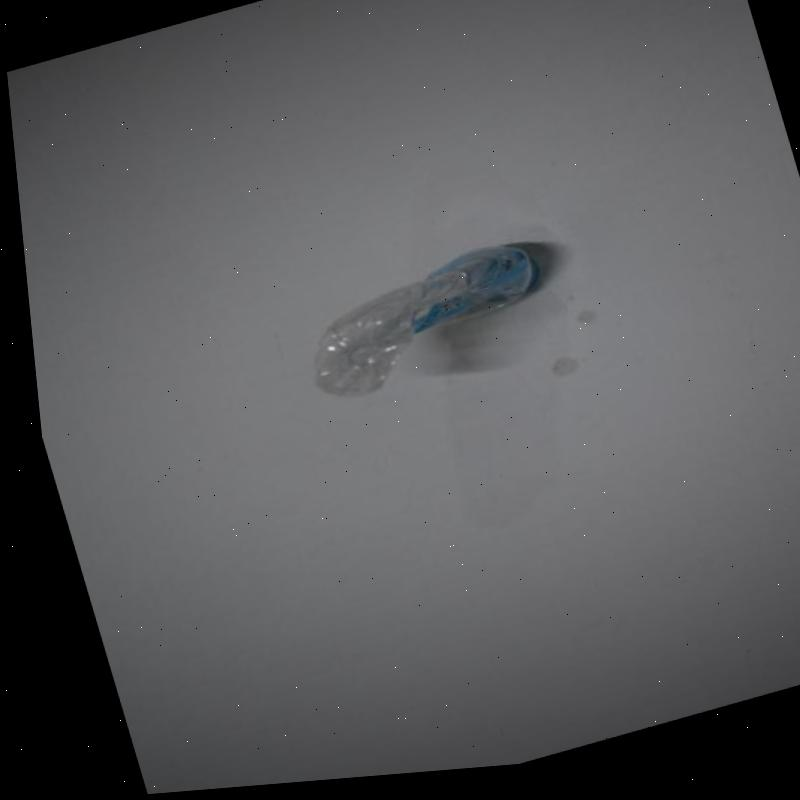botella: (284, 240, 557, 412)
